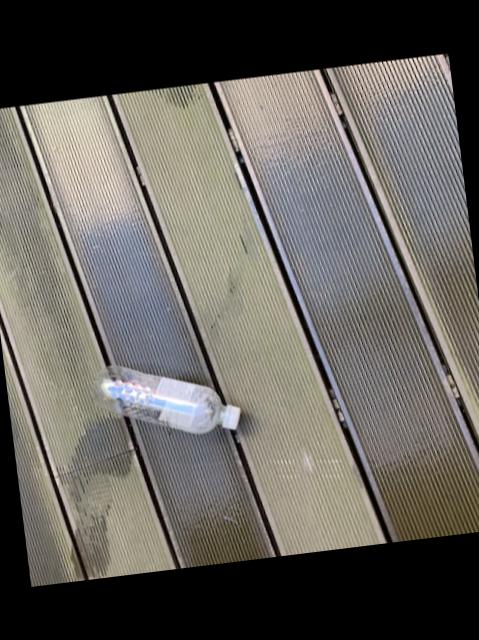plastic: (90, 365, 237, 433)
